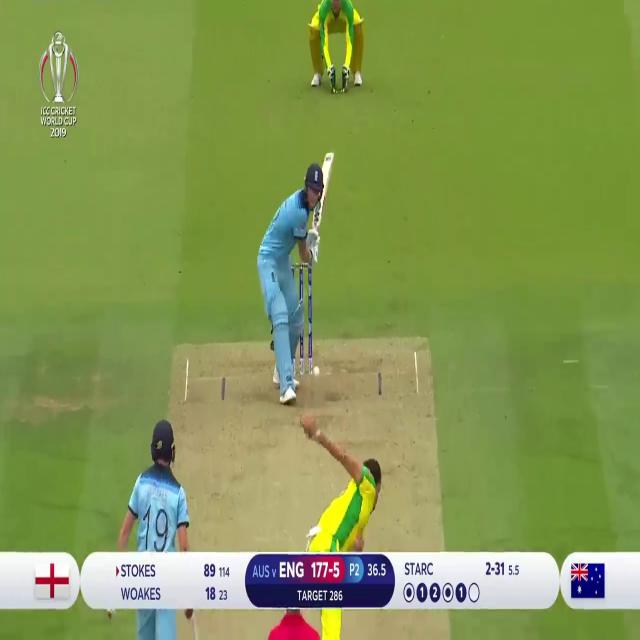ball: (312, 362, 322, 380)
